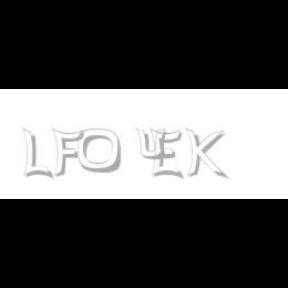E: (150, 128, 182, 180)
F: (52, 128, 84, 178)
K: (185, 128, 225, 180)
L: (23, 128, 51, 180)
O: (78, 128, 122, 174)
u: (136, 128, 170, 160)
